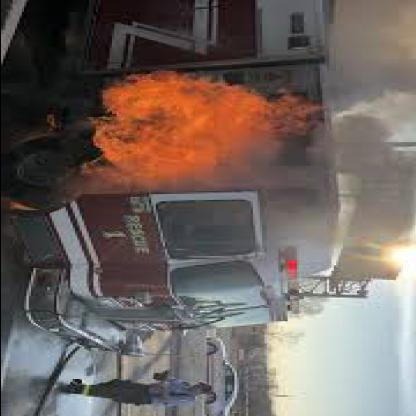Fire: (110, 85, 302, 153)
Smoke: (340, 5, 415, 233)
